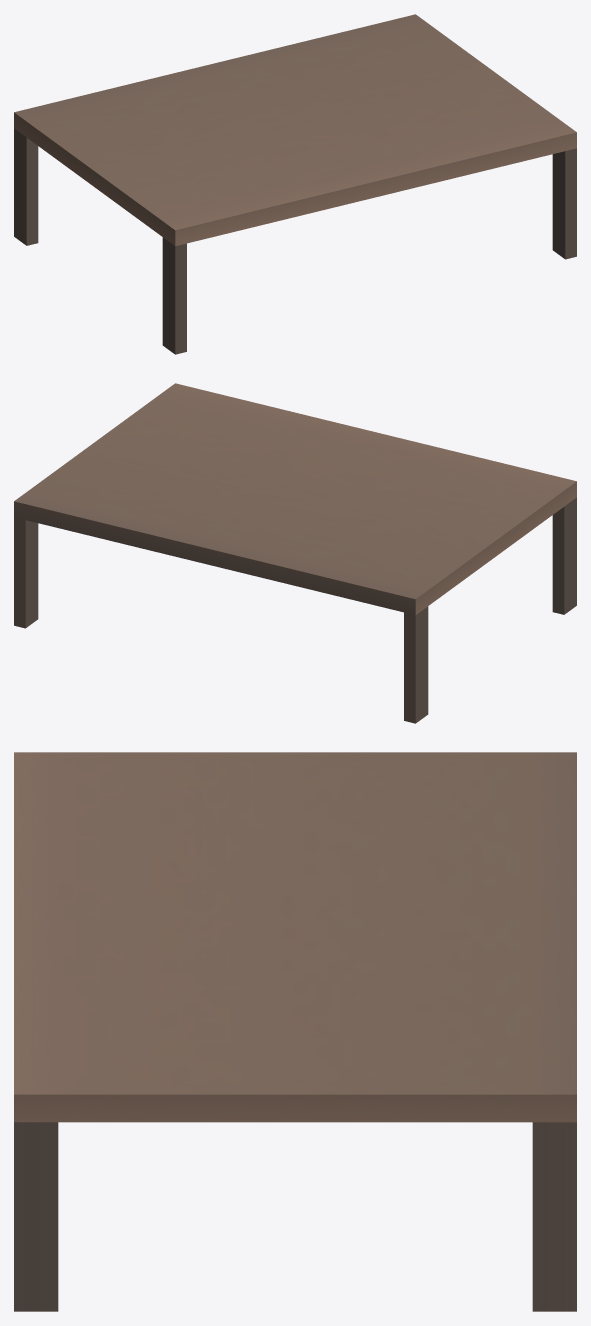
The model's file is Wide Table.fbx.
3 renders of one model, top to bottom at view 1: azimuth 30°, elevation 25°; view 2: azimuth 150°, elevation 25°; view 3: azimuth 270°, elevation 25°, orthographic. The views are drawn at different scales.
Visible parts, largest first — view 1: widetable; view 2: widetable; view 3: widetable.
Part boxes in pixels (x1,y1,x2,y2): widetable: [14, 14, 576, 354]; widetable: [14, 383, 576, 723]; widetable: [14, 752, 576, 1311].
Size of the model in its own units: 94.7 by 28.01 by 65.86.
